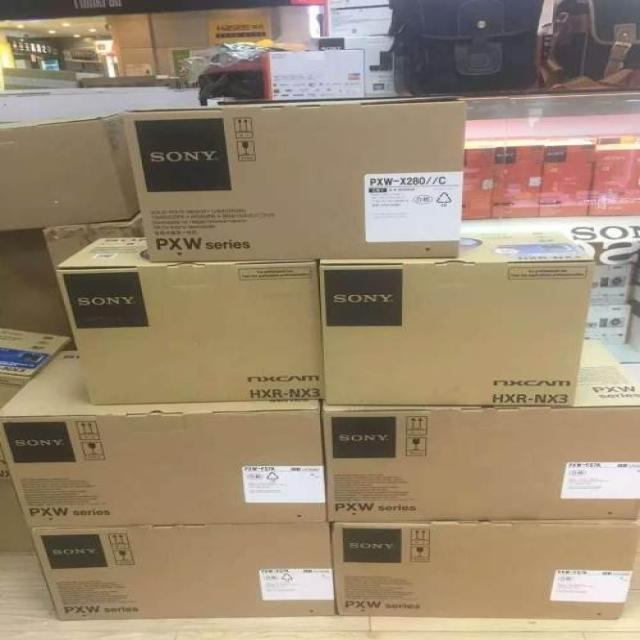box: (321, 322, 639, 522), (0, 336, 325, 527), (129, 99, 463, 261), (320, 233, 598, 409), (56, 236, 324, 405), (332, 522, 639, 621), (28, 524, 337, 620), (0, 111, 141, 234), (45, 213, 142, 267)
